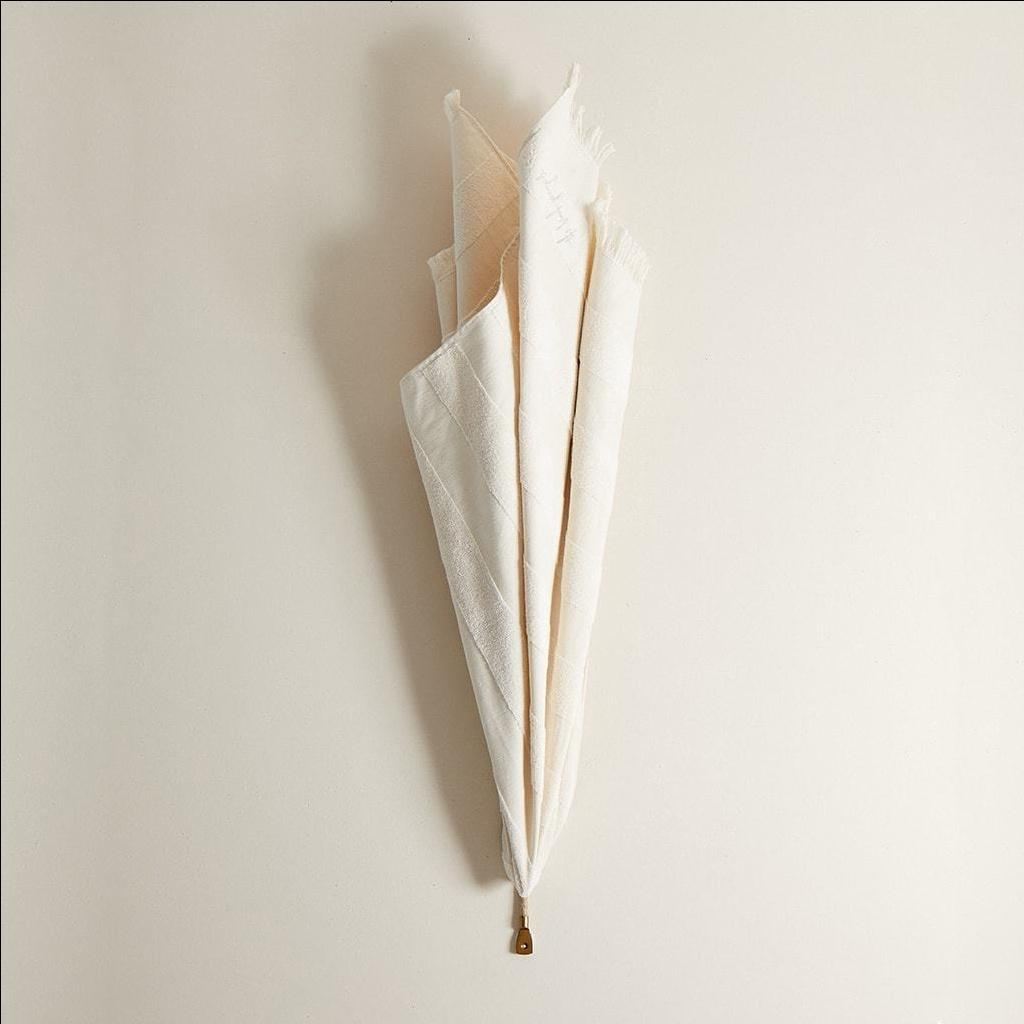towel: (360, 48, 700, 992)
